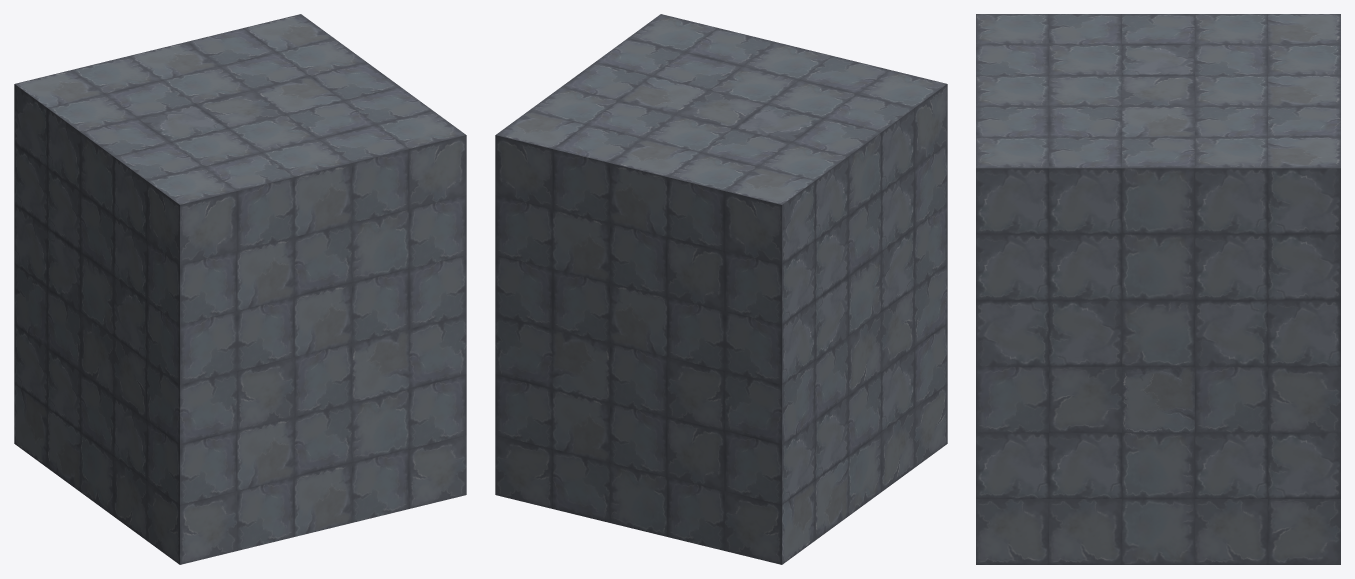
The model's file is Castle Block 5x5x6.fbx.
The picture shows the model from 3 angles, left to right: view 1: azimuth 30°, elevation 25°; view 2: azimuth 150°, elevation 25°; view 3: azimuth 270°, elevation 25°; orthographic projection. The views are drawn at different scales.
Visible parts, largest first — view 1: Castle Block 5x5x6; view 2: Castle Block 5x5x6; view 3: Castle Block 5x5x6.
Part boxes in pixels (left/top/right/bottom): Castle Block 5x5x6: left=14, top=14, right=466, bottom=564; Castle Block 5x5x6: left=495, top=14, right=947, bottom=564; Castle Block 5x5x6: left=976, top=14, right=1340, bottom=564.
Bounding box in the file's own units: 3.75 × 4.5 × 3.75.
